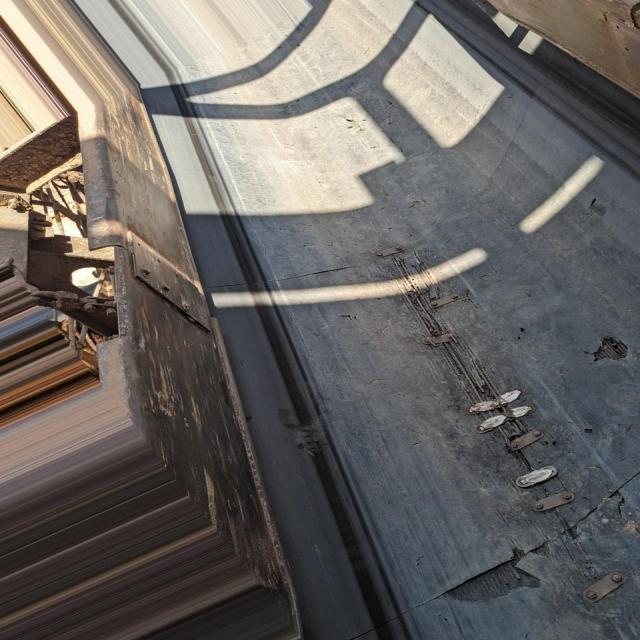Tear: (410, 473, 640, 616), (292, 253, 358, 283), (577, 193, 618, 224), (593, 338, 630, 367), (589, 336, 602, 363)
patch work: (377, 240, 583, 521), (566, 553, 639, 615)
